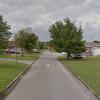Tree: (43, 14, 92, 62)
